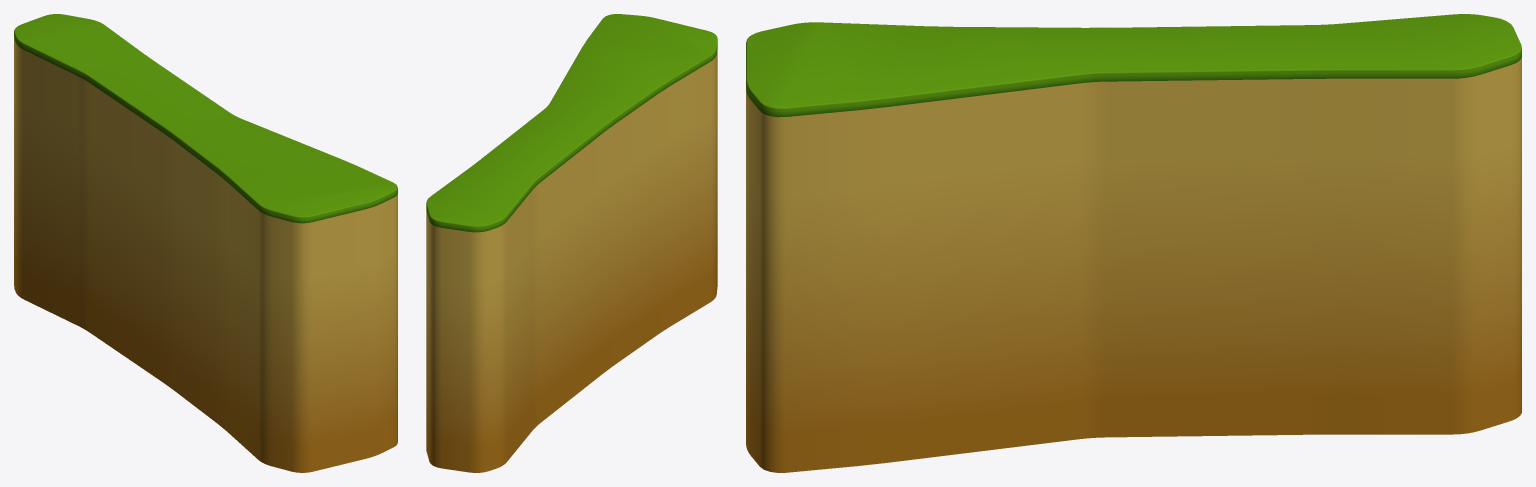
Rendered from LM100NAT08.fbx.
3 renders of one model, left to right at view 1: azimuth 30°, elevation 25°; view 2: azimuth 150°, elevation 25°; view 3: azimuth 270°, elevation 25°, orthographic. The views are drawn at different scales.
Visible parts, largest first — view 1: LOD0; view 2: LOD0; view 3: LOD0.
Boxes of the visible parts, x1,y1,x2,y2 form: LOD0: (14,14,397,472); LOD0: (426,14,717,472); LOD0: (746,14,1521,472).
Size of what is drawn, in the model's own units: 2773 by 9632 by 5000.
